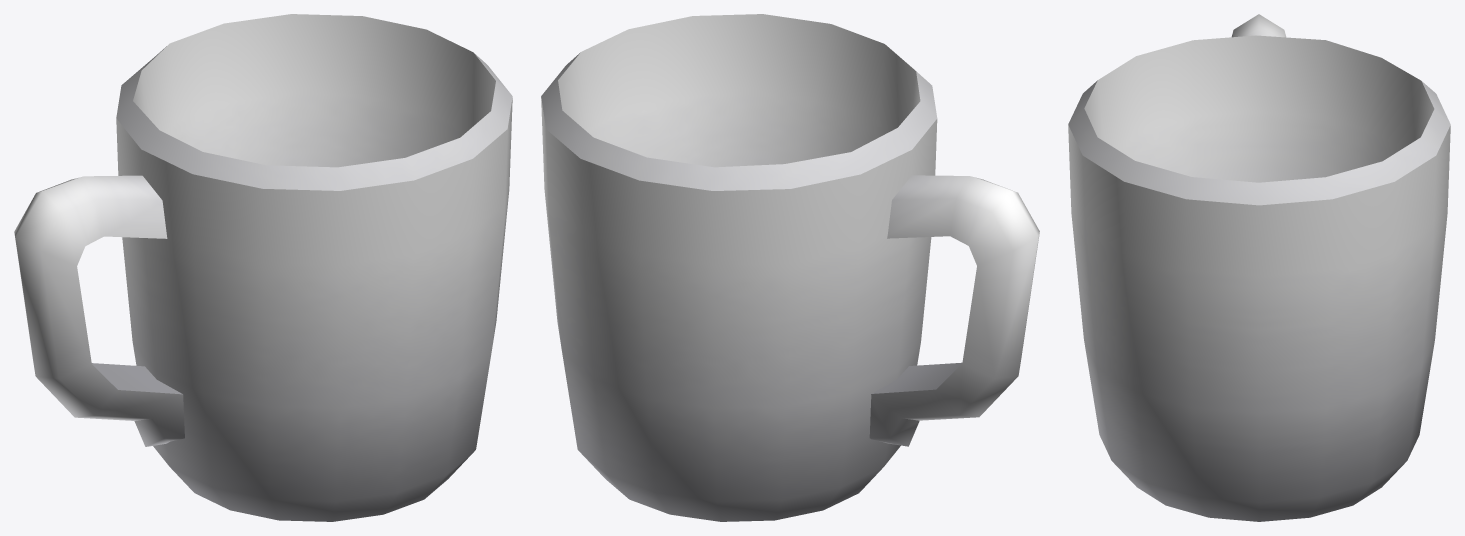
Rendered from m_Mug01.fbx.
3 renders of one model, left to right at view 1: azimuth 30°, elevation 25°; view 2: azimuth 150°, elevation 25°; view 3: azimuth 270°, elevation 25°, orthographic. The views are drawn at different scales.
Visible parts, largest first — view 1: m_Mug01; view 2: m_Mug01; view 3: m_Mug01.
Part boxes in pixels (<box>): m_Mug01: <box>14,14,512,521</box>; m_Mug01: <box>541,14,1039,521</box>; m_Mug01: <box>1068,14,1450,521</box>.
Bounding box in the file's own units: 15.22 × 11.5 × 11.16.
